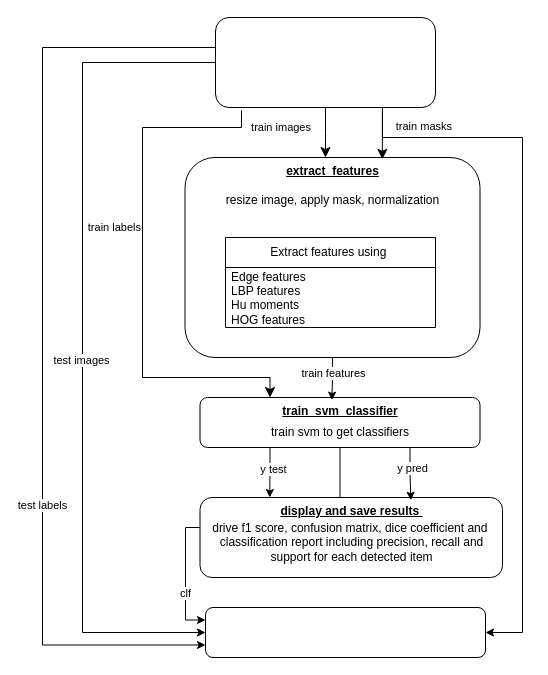
Some shapes in this 548 by 675 pixel diagram are drawn without their labels. The centre of each missing label's shape, as x and y in pixels:
"generate_segmentation_images" belongs at (345,632).
"load_images_and_masks read images, masks and labels of test and train data" belongs at (325,62).
